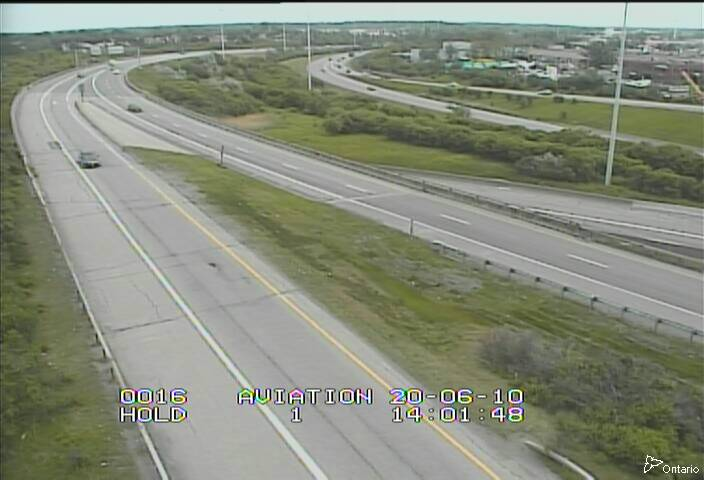time_stamp: (383, 404, 531, 429), (381, 382, 531, 406)
